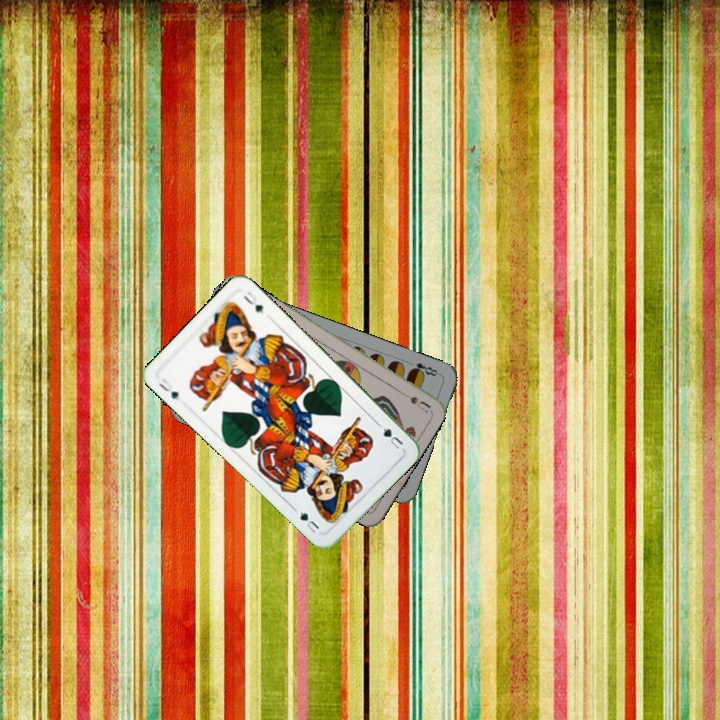E8: (404, 357, 443, 379)
GU: (374, 419, 406, 452), (155, 374, 183, 403)
SU: (395, 386, 433, 415)
